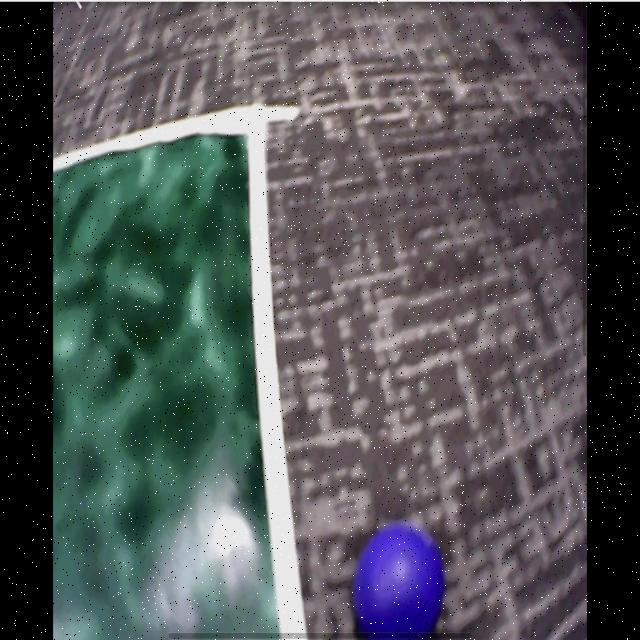ball: (355, 525, 445, 640)
